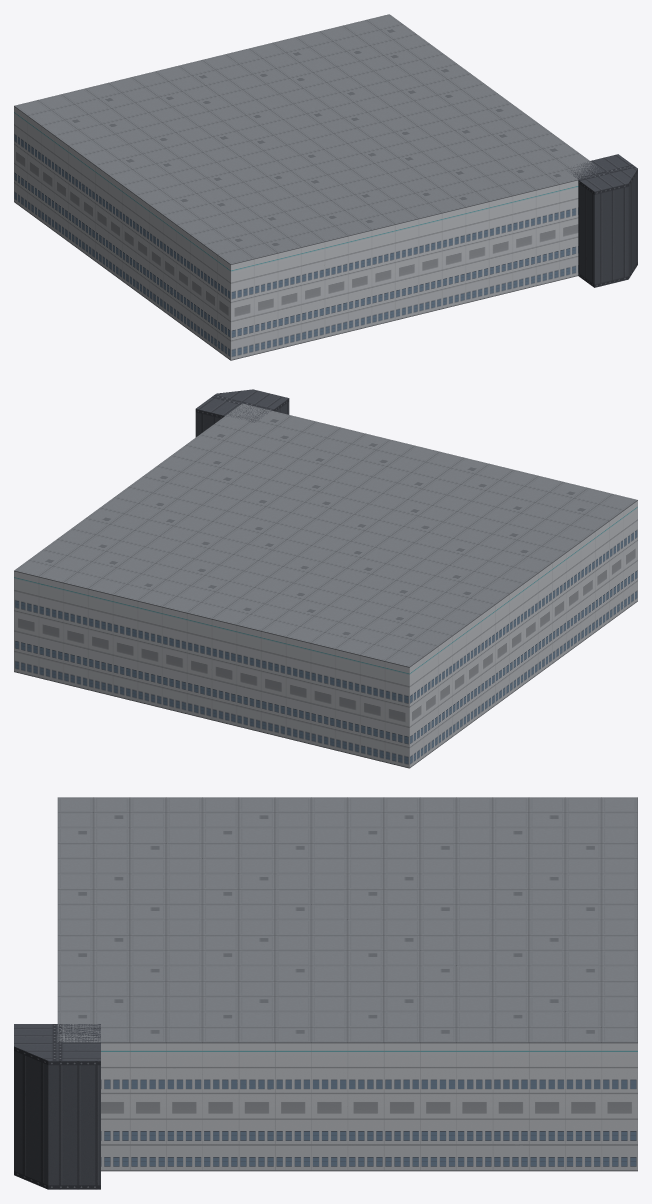
The model's file is BLD_POD_CornerHalf.fbx.
3 renders of one model, top to bottom at view 1: azimuth 30°, elevation 25°; view 2: azimuth 150°, elevation 25°; view 3: azimuth 270°, elevation 25°, orthographic. The views are drawn at different scales.
Visible parts, largest first — view 1: BLD_POD_CornerHalf; view 2: BLD_POD_CornerHalf; view 3: BLD_POD_CornerHalf.
Part boxes in pixels (bbox=[...]): BLD_POD_CornerHalf: bbox=[14, 14, 637, 360]; BLD_POD_CornerHalf: bbox=[14, 389, 637, 768]; BLD_POD_CornerHalf: bbox=[14, 797, 637, 1189].
Bounding box in the file's own units: 108 × 24.5 × 108.
